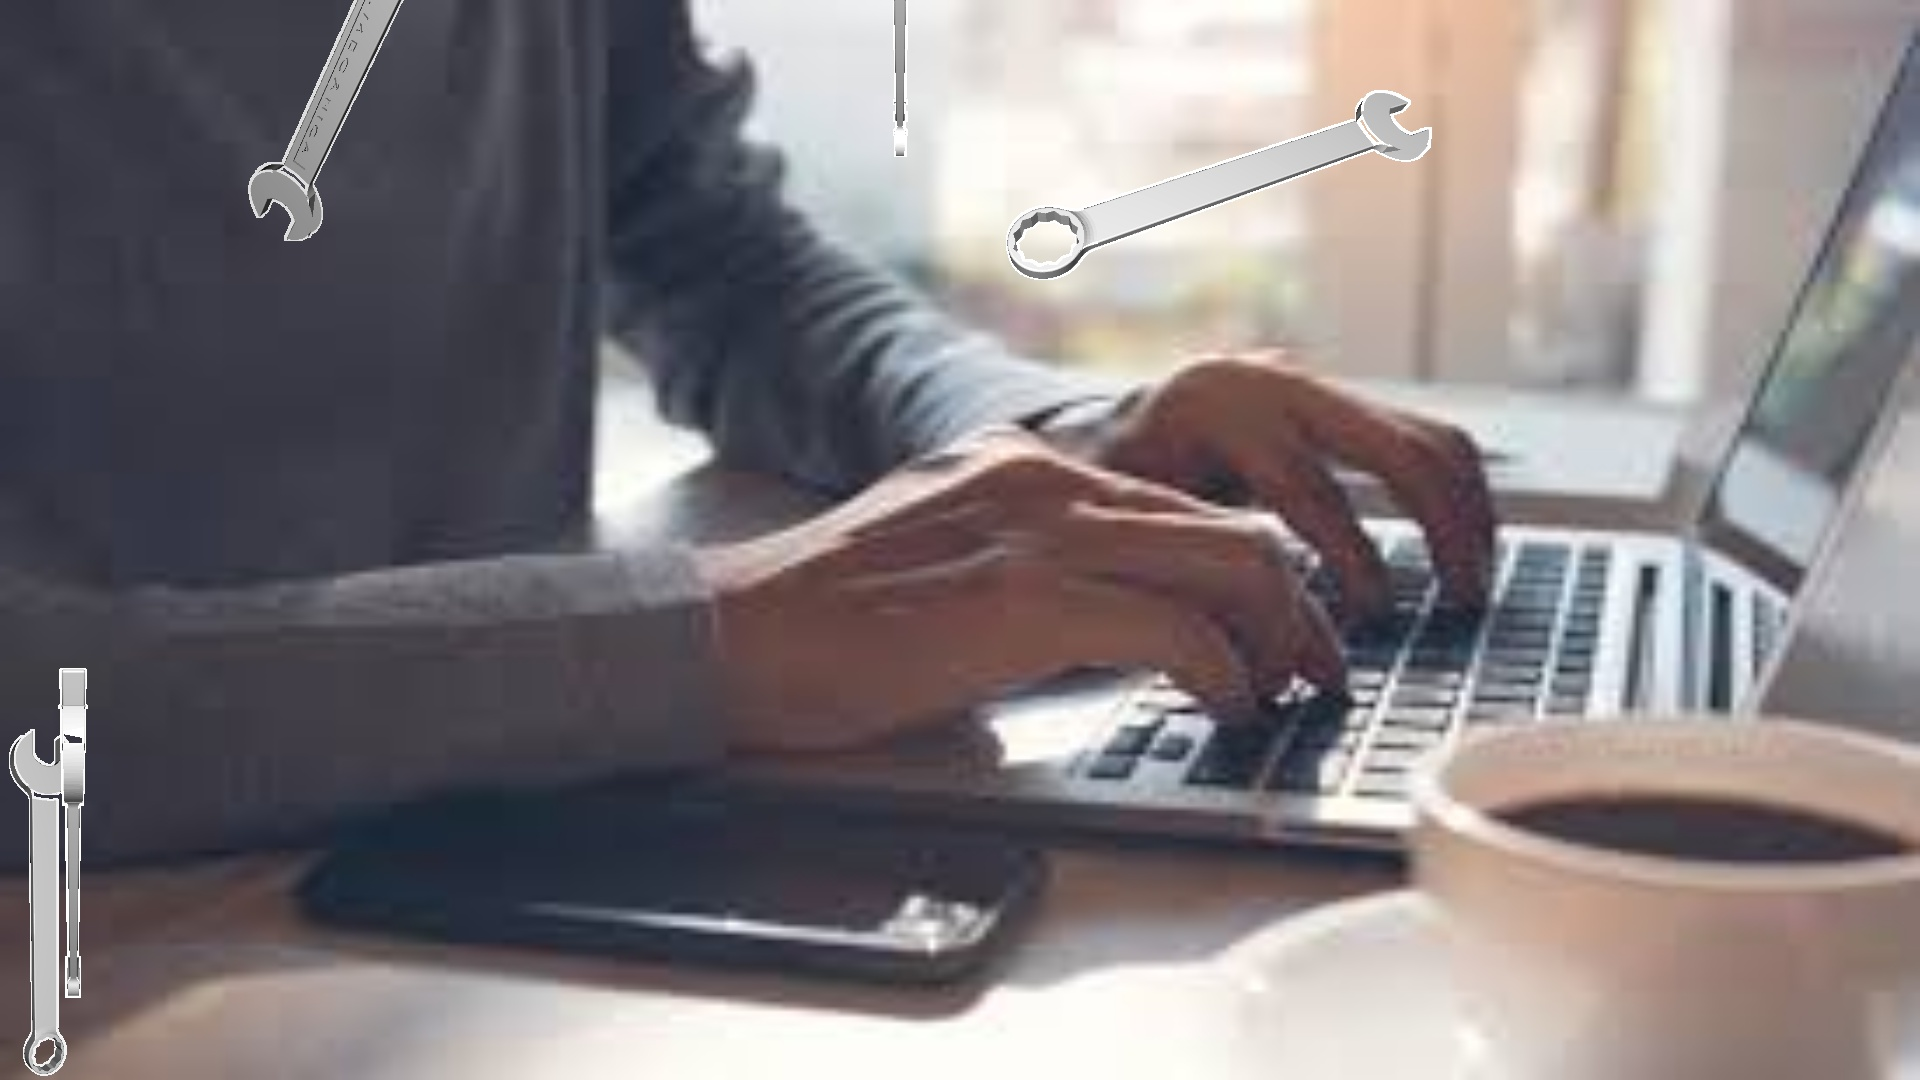Mixed Key: (1006, 90, 1431, 280), (248, 0, 404, 240), (9, 729, 69, 1075), (58, 669, 87, 997), (893, 0, 907, 156)
